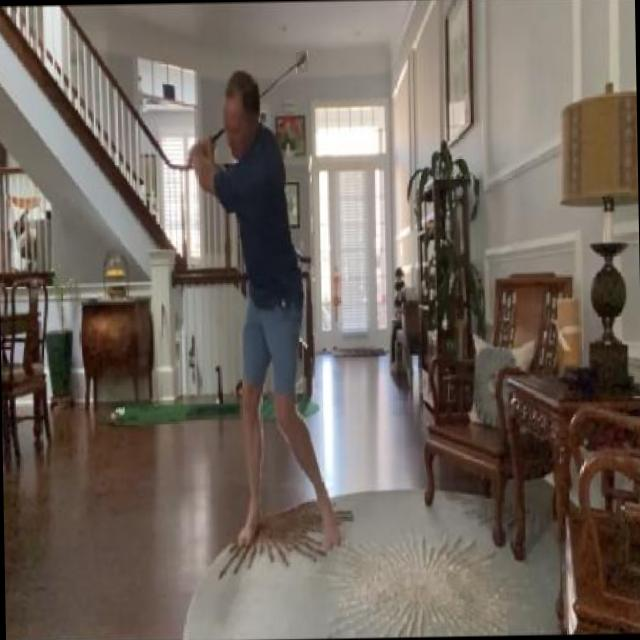club head: (296, 51, 308, 72)
